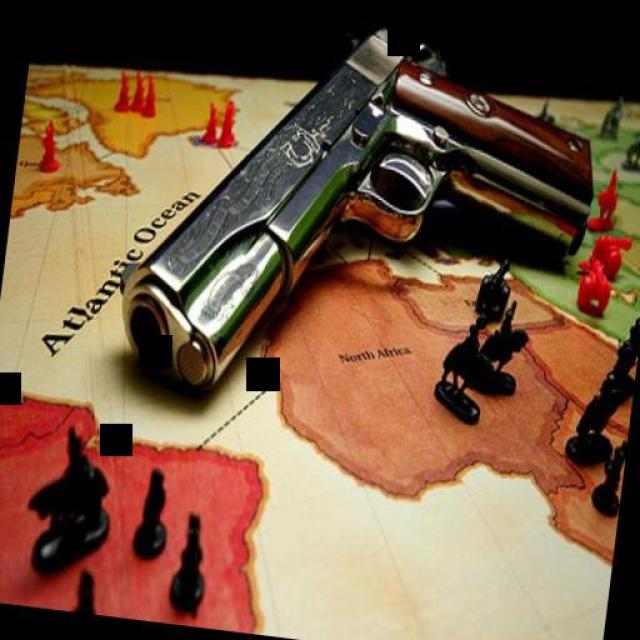gun: (109, 0, 606, 441)
